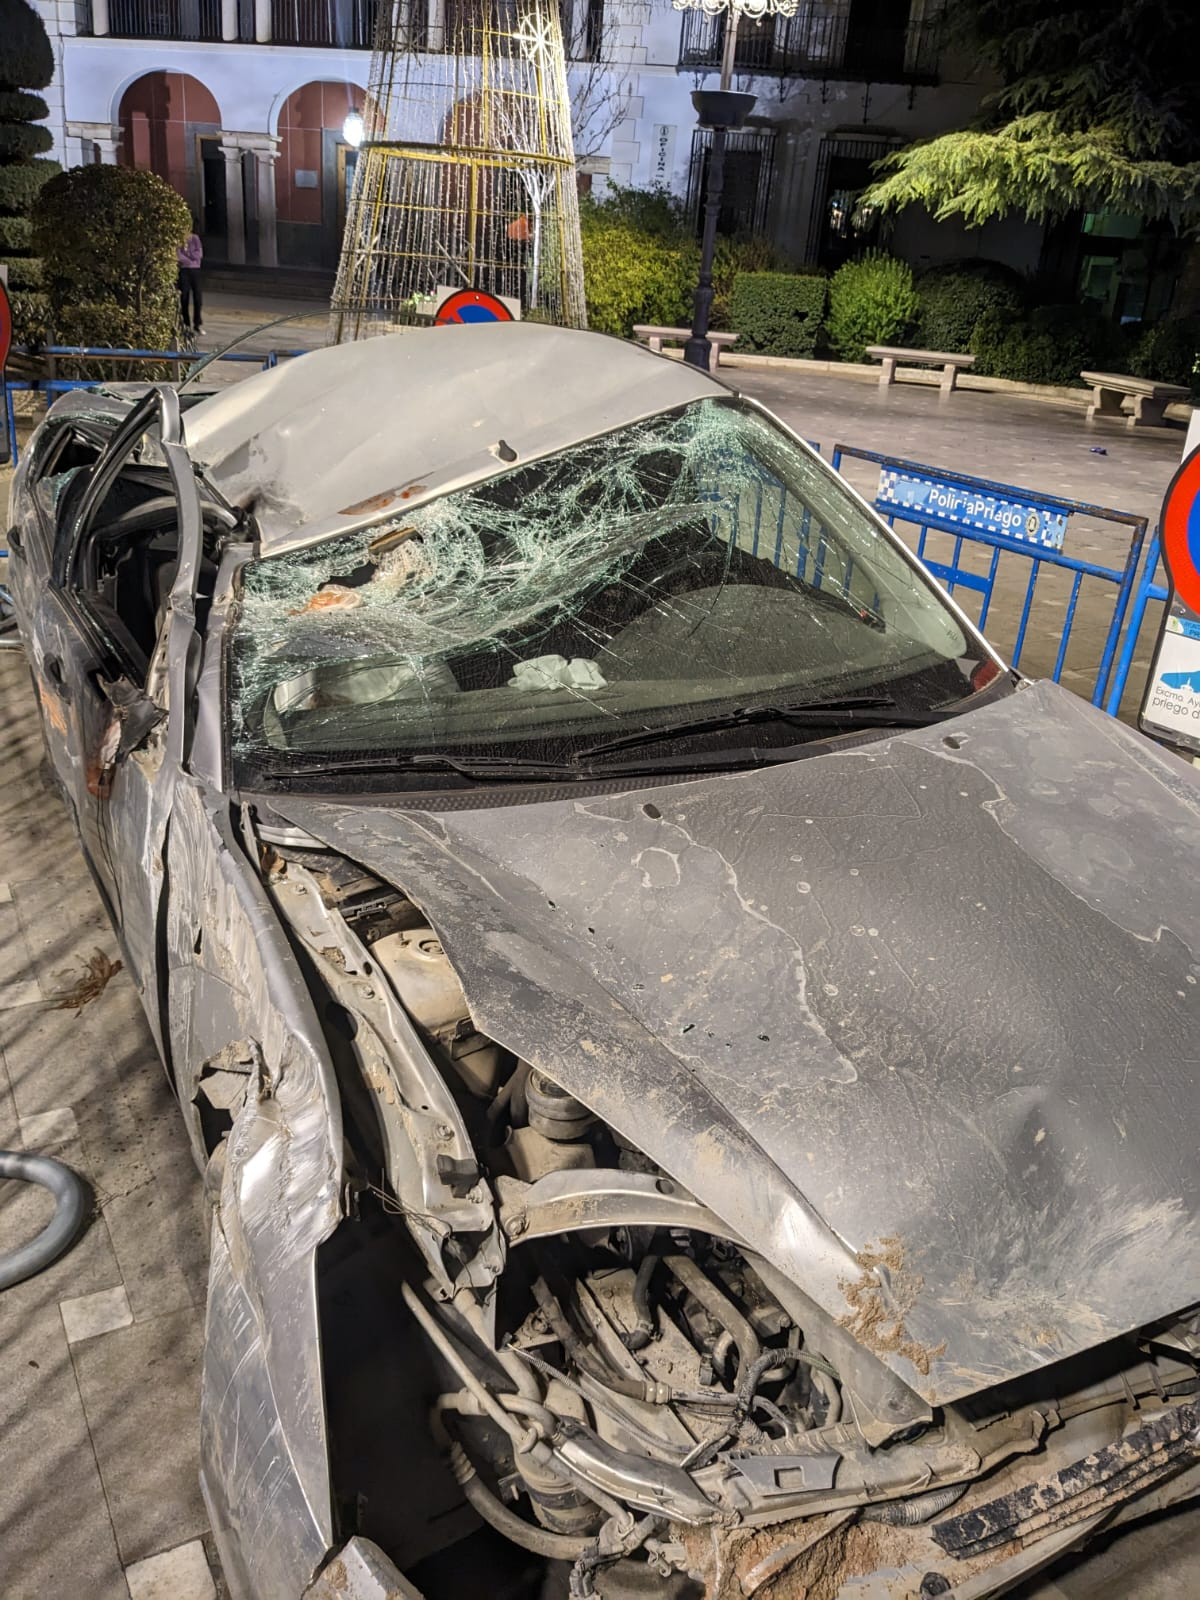car: (23, 278, 1197, 1599)
